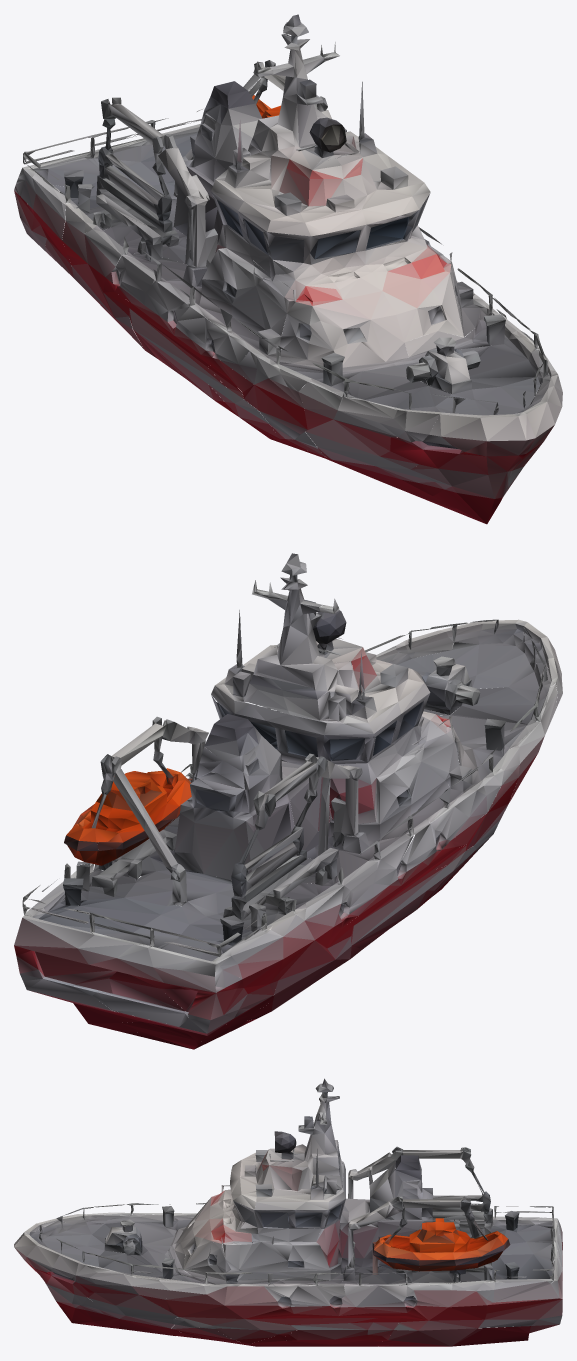
Rendered from building-rescueShip.glb.
3 renders of one model, top to bottom at view 1: azimuth 30°, elevation 25°; view 2: azimuth 150°, elevation 25°; view 3: azimuth 270°, elevation 25°, orthographic. The views are drawn at different scales.
Parts seen in each view (by area): view 1: 0_rescueShip; view 2: 0_rescueShip; view 3: 0_rescueShip.
Boxes of the visible parts, box(x1,y1,x2,y2) form: 0_rescueShip: box(14, 14, 562, 524); 0_rescueShip: box(14, 553, 562, 1049); 0_rescueShip: box(14, 1078, 562, 1346).
Bounding box in the file's own units: 9.08 × 13.7 × 27.88.
